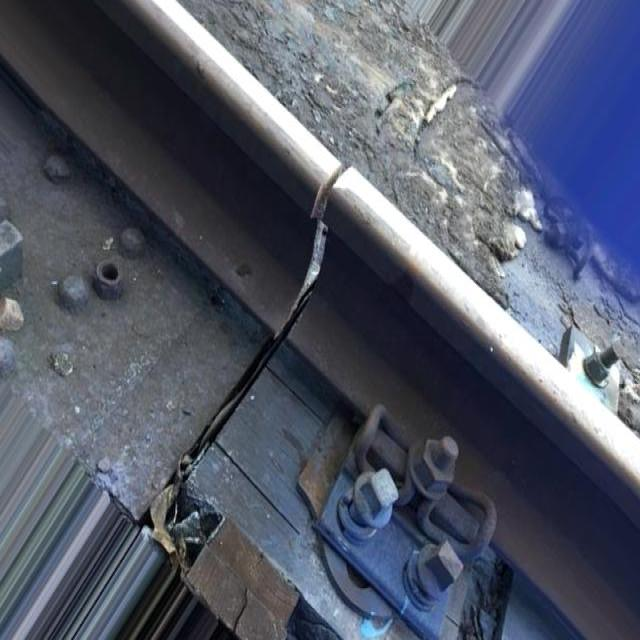crack: (76, 106, 417, 606)
